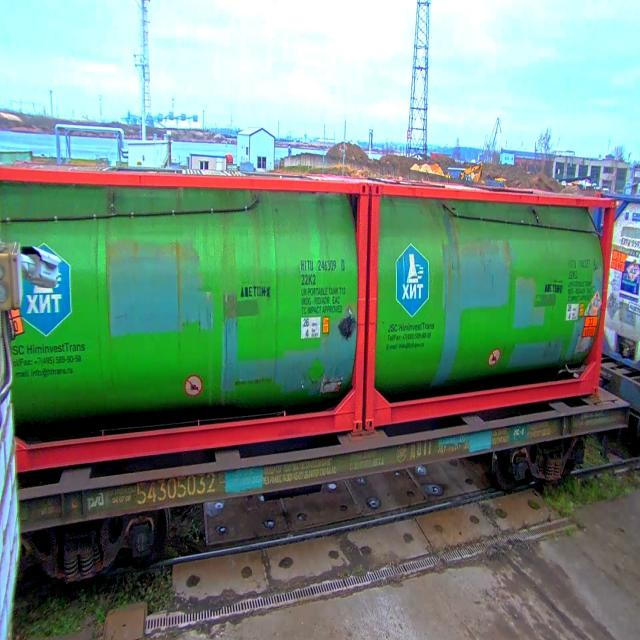flatcar: (4, 365, 633, 609)
tank: (0, 141, 370, 479), (364, 169, 621, 441), (601, 183, 640, 377)
